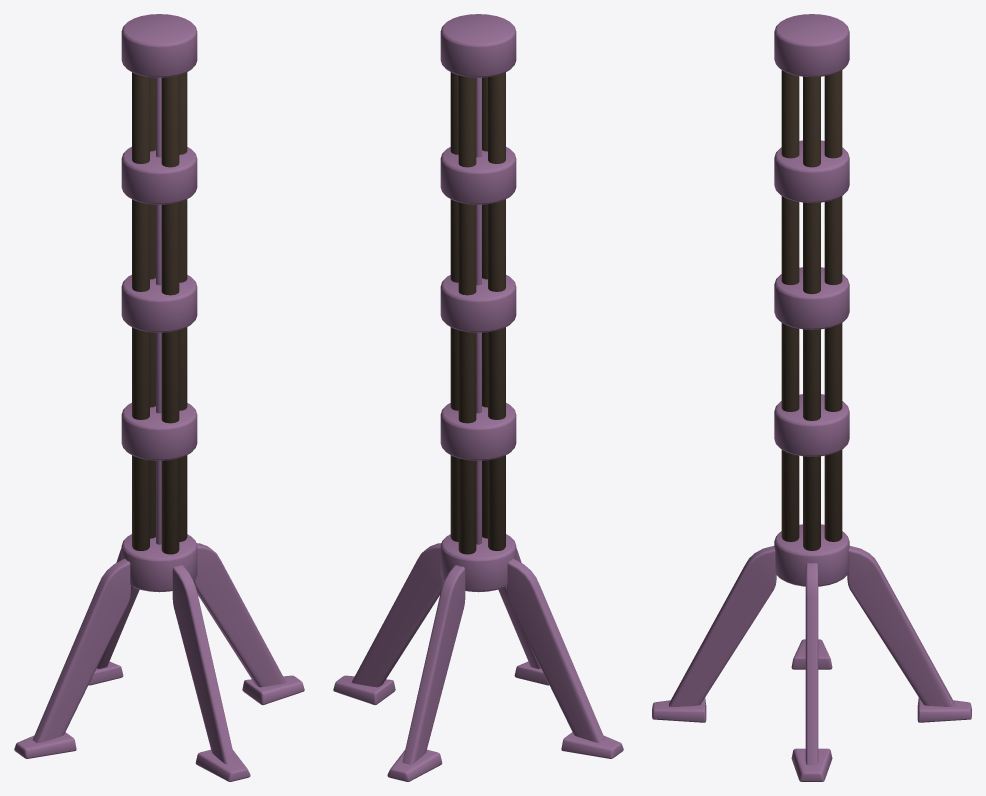
File: Light02.FBX
3 views of the same model, side by side, from view 1: azimuth 30°, elevation 25°; view 2: azimuth 150°, elevation 25°; view 3: azimuth 270°, elevation 25° (orthographic).
Visible parts, largest first — view 1: SM_Light02; view 2: SM_Light02; view 3: SM_Light02.
Boxes of the visible parts, x1,y1,x2,y2 form: SM_Light02: (14,14,304,781); SM_Light02: (333,14,623,781); SM_Light02: (652,14,971,781).
Bounding box in the file's own units: 37.2 × 88.03 × 37.2.
